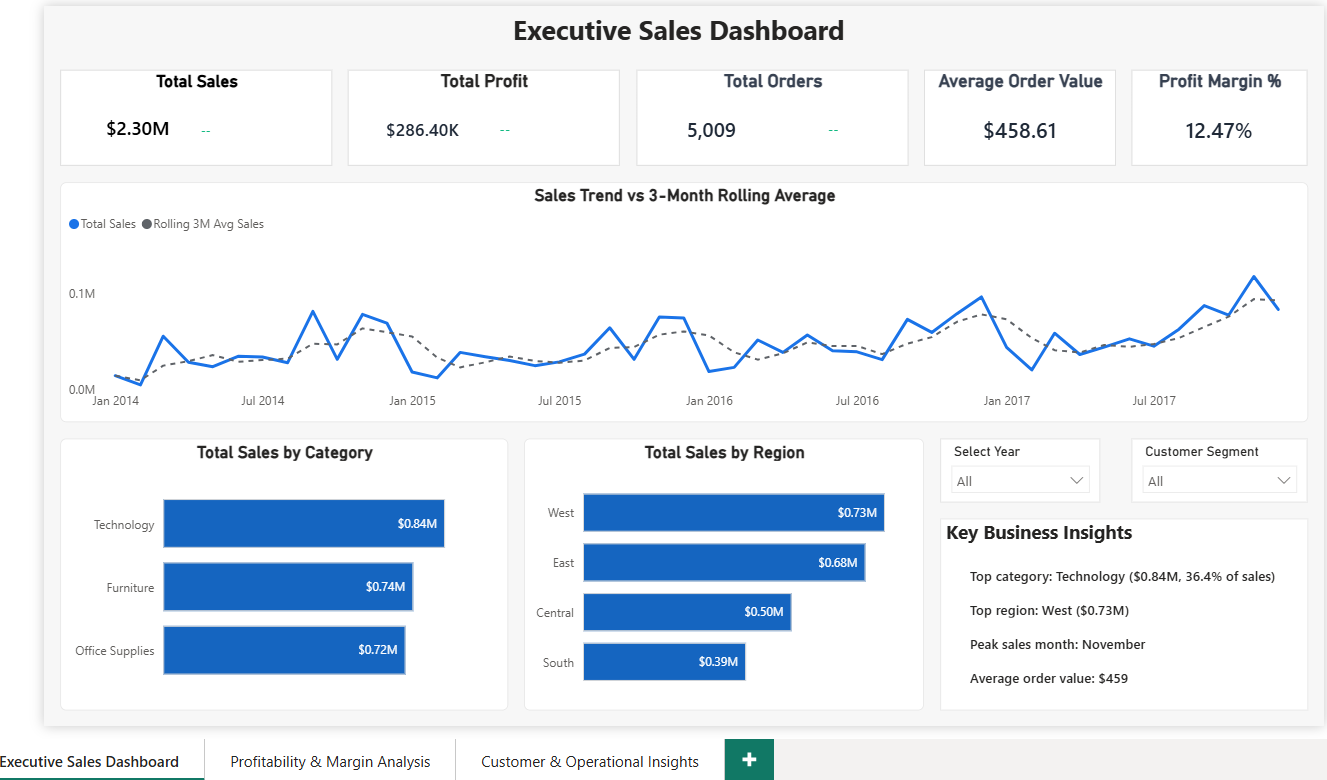

What the dashboard file says about the page in this screenshot:
{"tool":"powerbi","page":{"name":"Executive Sales Dashboard","canvas":[1280,720],"ordinal":0},"visuals":[{"type":"cardVisual","title":"Total Sales","fields":{"Data":["Sample - Superstore.Total Sales","DimDate.Sales Growth Label"]},"box":[16,64,272,96],"z":0},{"type":"cardVisual","title":"Total Profit","fields":{"Data":["Sample - Superstore.Total Profit","DimDate.Profit Growth Label"]},"box":[304,64,272,96],"z":1000},{"type":"cardVisual","title":"Total Orders","fields":{"Data":["Sample - Superstore.Total Orders","DimDate.Orders Growth Label"]},"box":[592,64,272,96],"z":2000},{"type":"cardVisual","title":"Average Order Value","fields":{"Data":["Sample - Superstore.AOV"]},"box":[880,64,192,96],"z":3000},{"type":"cardVisual","title":"Profit Margin %","fields":{"Data":["Sample - Superstore.Profit Margin %"]},"box":[1088,64,176,96],"z":4000},{"type":"lineChart","title":"Sales Trend vs 3-Month Rolling Average","fields":{"Y":["Sample - Superstore.Total Sales","Sample - Superstore.Rolling 3M Avg Sales"],"Category":["DimDate.Month Start"]},"box":[16,176,1248,240],"z":5000},{"type":"barChart","fields":{"Category":["Sample - Superstore.Category"],"Y":["Sample - Superstore.Total Sales"]},"box":[16,432,448,272],"z":6000},{"type":"slicer","fields":{"Values":["Sample - Superstore.Segment"]},"box":[1088,432,176,64],"z":7000},{"type":"barChart","fields":{"Y":["Sample - Superstore.Total Sales"],"Category":["Sample - Superstore.Region"]},"box":[480,432,400,272],"z":8000},{"type":"textbox","box":[464,0,352,48],"z":9000},{"type":"cardVisual","title":"Key Business Insights","fields":{"Data":["DimDate.Top Category Insight","DimDate.Top Region Insight","DimDate.Peak Month Insight","Sample - Superstore.AOV Insight"]},"box":[896,512,368,192],"z":10000},{"type":"slicer","fields":{"Values":["DimDate.Year"]},"box":[896,432,160,64],"z":11000}]}

Visuals, with their boxes on the page's 1280x720 design canvas (x1, y1, x2, y2). These are canvas units, not pixel positions in the 1327x780 screenshot, which may show the page scaled, cropped or inside an application window:
"Total Sales" cardVisual: [16, 64, 288, 160]
"Total Profit" cardVisual: [304, 64, 576, 160]
"Total Orders" cardVisual: [592, 64, 864, 160]
"Average Order Value" cardVisual: [880, 64, 1072, 160]
"Profit Margin %" cardVisual: [1088, 64, 1264, 160]
"Sales Trend vs 3-Month Rolling Average" lineChart: [16, 176, 1264, 416]
barChart - Sample - Superstore.Category x Sample - Superstore.Total Sales: [16, 432, 464, 704]
slicer - Sample - Superstore.Segment: [1088, 432, 1264, 496]
barChart - Sample - Superstore.Total Sales x Sample - Superstore.Region: [480, 432, 880, 704]
textbox: [464, 0, 816, 48]
"Key Business Insights" cardVisual: [896, 512, 1264, 704]
slicer - DimDate.Year: [896, 432, 1056, 496]
